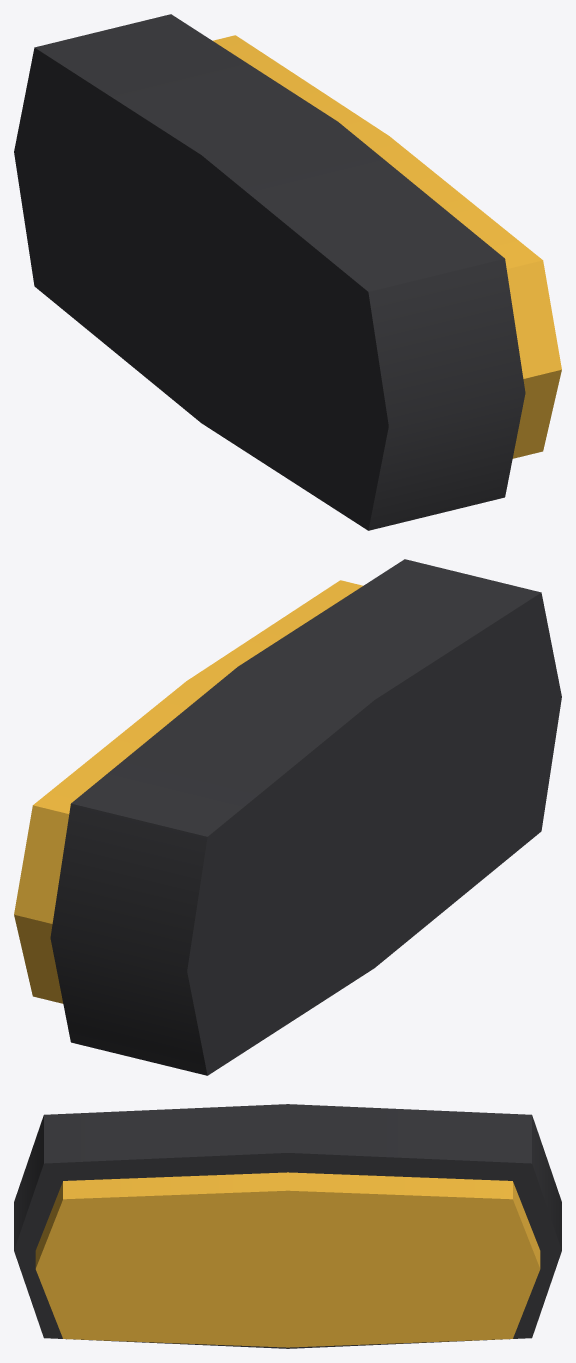
File: flush_lod1.glb
3 renders of one model, top to bottom at view 1: azimuth 30°, elevation 25°; view 2: azimuth 150°, elevation 25°; view 3: azimuth 270°, elevation 25°, orthographic. The views are drawn at different scales.
Visible parts, largest first — view 1: flush_lod1; view 2: flush_lod1; view 3: flush_lod1.
Boxes of the visible parts, left/top/right/bottom form: flush_lod1: left=14, top=14, right=561, bottom=530; flush_lod1: left=14, top=559, right=561, bottom=1075; flush_lod1: left=14, top=1104, right=561, bottom=1348.
Size of the model in its own units: 0.011 by 0.015 by 0.038.
